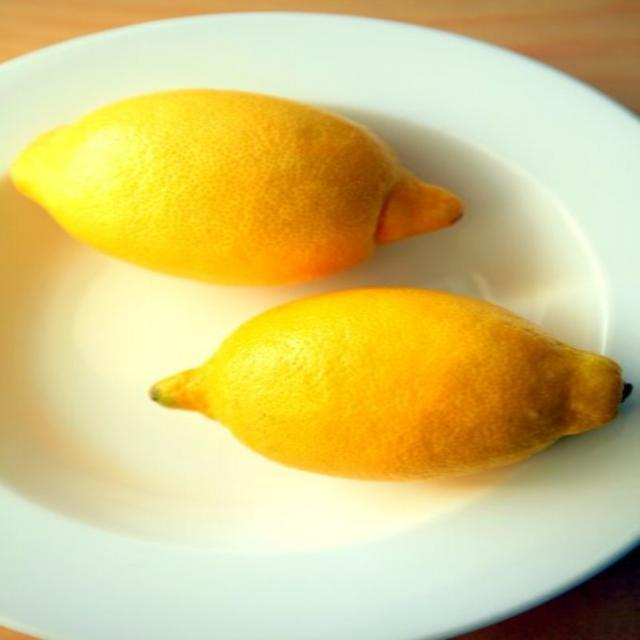Lemon: (147, 287, 635, 485), (8, 86, 467, 290)
